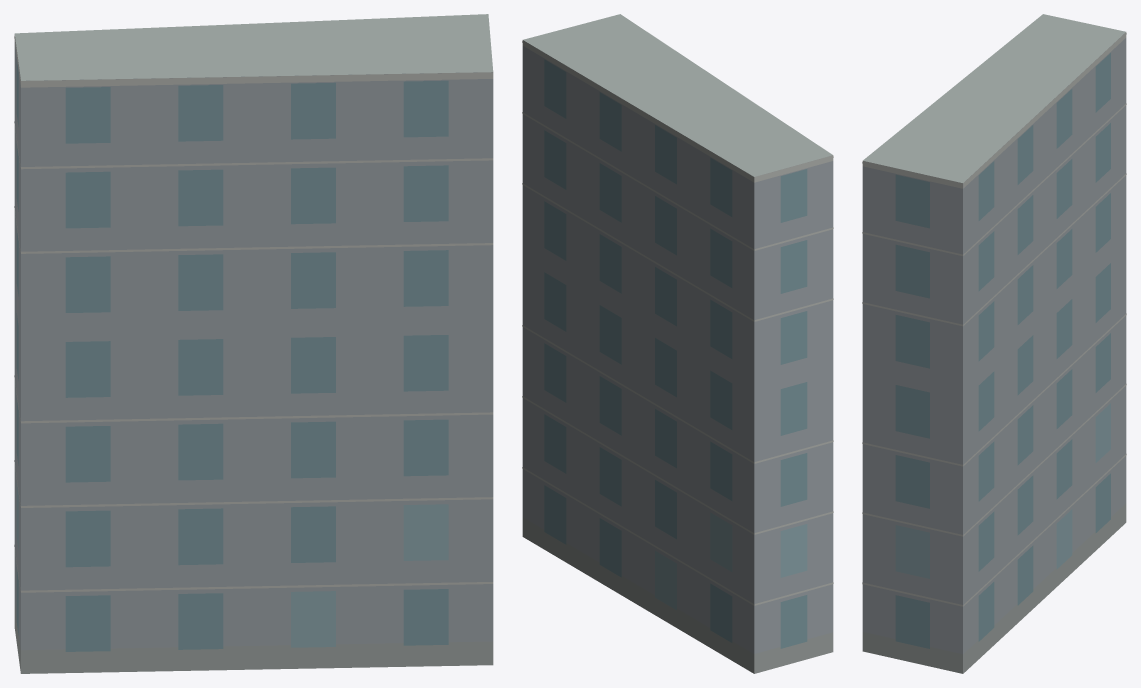
Rendered from survey-upis-32979941.glb.
3 views of the same model, side by side, from view 1: azimuth 30°, elevation 25°; view 2: azimuth 150°, elevation 25°; view 3: azimuth 270°, elevation 25° (orthographic). The views are drawn at different scales.
Parts seen in each view (by area): view 1: survey-upis-32979941.tmp; view 2: survey-upis-32979941.tmp; view 3: survey-upis-32979941.tmp.
Part boxes in pixels (x1,y1,x2,y2): survey-upis-32979941.tmp: (14, 14, 493, 673); survey-upis-32979941.tmp: (522, 14, 833, 673); survey-upis-32979941.tmp: (862, 14, 1126, 673).
Bounding box in the file's own units: 15.81 × 21.35 × 10.42.
